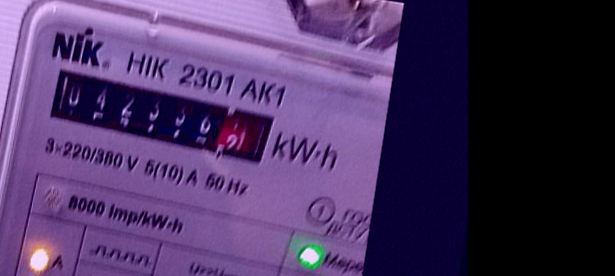0: (66, 79, 83, 110)
2: (117, 89, 139, 118)
3: (143, 93, 164, 124), (172, 98, 190, 128)
4: (91, 84, 111, 113)
6: (196, 108, 215, 137)
screen: (36, 58, 285, 175)
